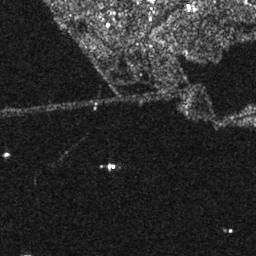ship: (105, 163, 116, 171), (3, 151, 10, 159)
